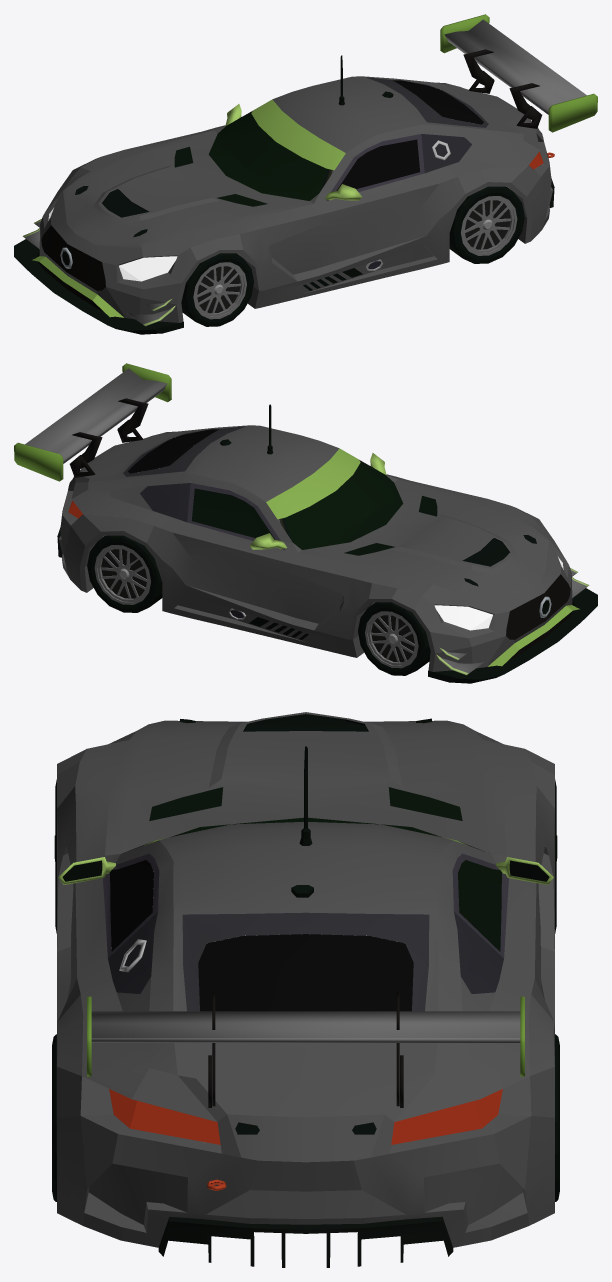
Rendered from Tristar Racer.glb.
3 renders of one model, top to bottom at view 1: azimuth 30°, elevation 25°; view 2: azimuth 150°, elevation 25°; view 3: azimuth 270°, elevation 25°, orthographic. The views are drawn at different scales.
Visible parts, largest first — view 1: amg Gt body, lfWheel.001; view 2: amg Gt body, lfWheel.001; view 3: amg Gt body, lfWheel.001.
Boxes of the visible parts, box(x1,y1,x2,y2) form: amg Gt body: box(14, 14, 597, 334); lfWheel.001: box(181, 186, 524, 326); amg Gt body: box(14, 363, 597, 683); lfWheel.001: box(87, 535, 430, 675); amg Gt body: box(54, 712, 557, 1267); lfWheel.001: box(52, 779, 559, 1201).
Size of the model in its own units: 4.3 by 1.53 by 1.93.
4 materials, 3 textured.
